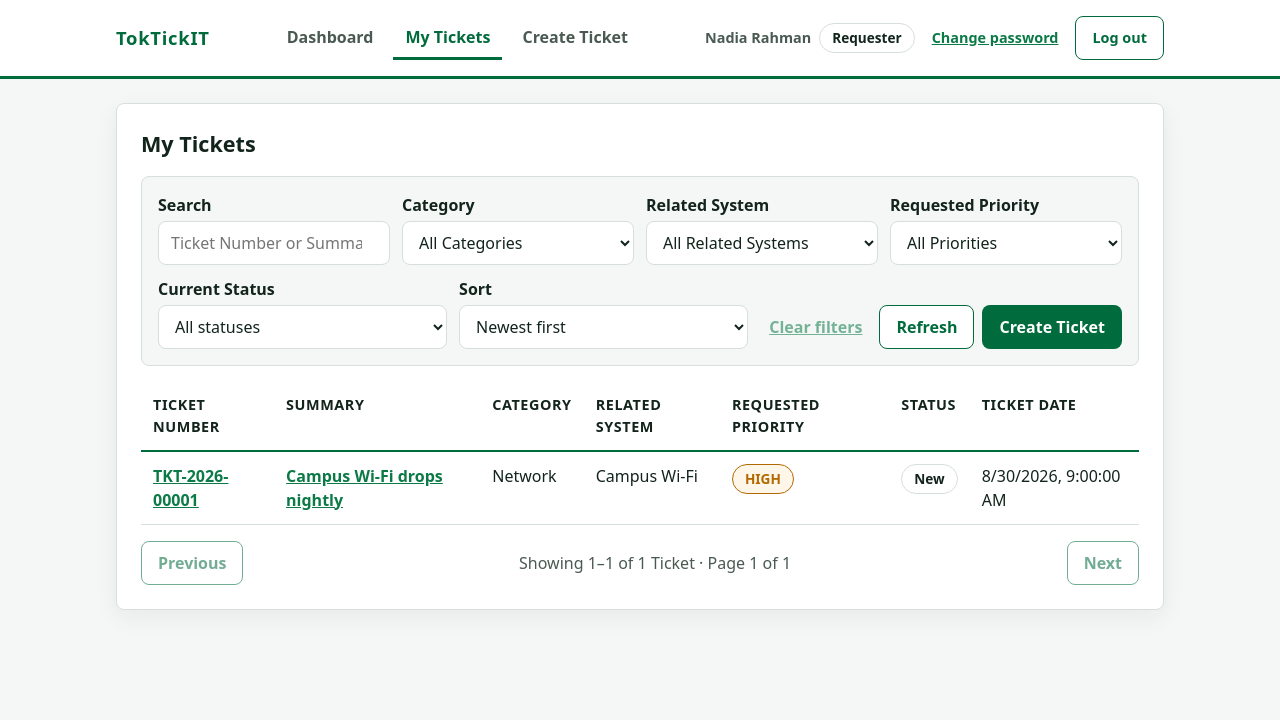
Test: My Tickets — empty and no-results are different › offers Clear filters when a search matched nothing
Expected: the heading "My Tickets" is shown, [141,129,256,158]
Expected: the table is shown, [141,382,1139,525]
In the search field labelled "Search": {"x": 274, "y": 243} [158,221,390,265], type "zzzz"
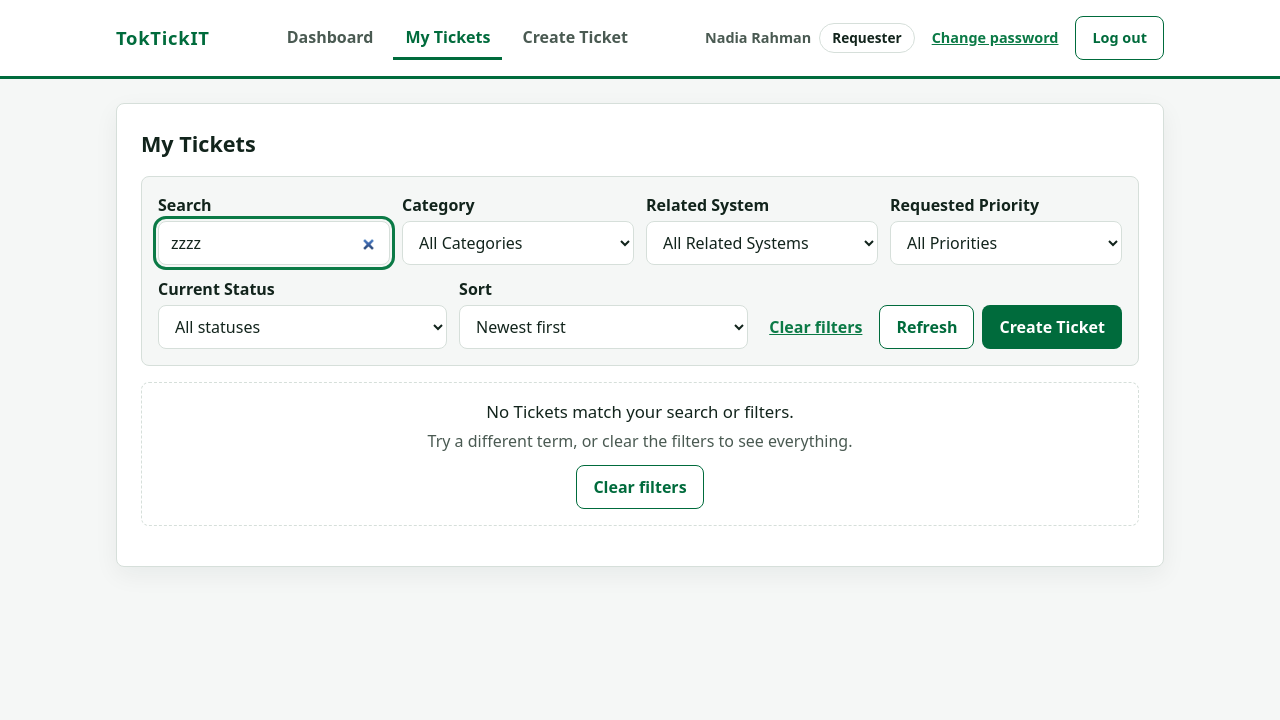
Result: the text "No Tickets match your search or filters." is shown at [486,400,794,423]
